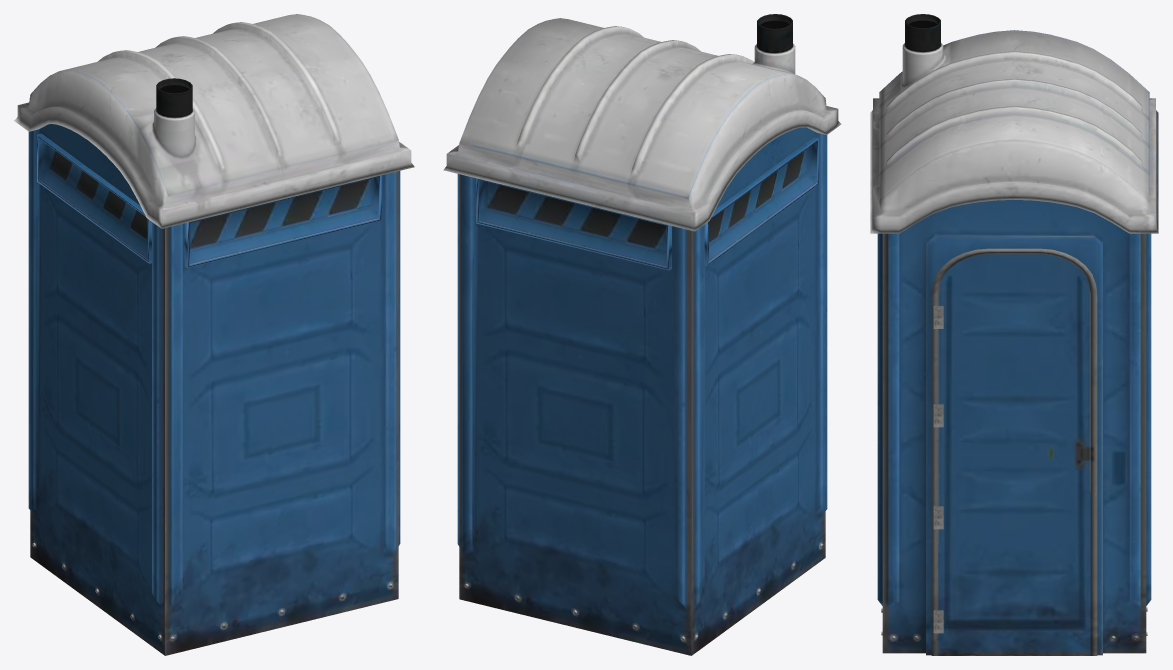
The model's file is toilet.glb.
3 renders of one model, left to right at view 1: azimuth 30°, elevation 25°; view 2: azimuth 150°, elevation 25°; view 3: azimuth 270°, elevation 25°, orthographic. The views are drawn at different scales.
Visible parts, largest first — view 1: defaultMaterial; view 2: defaultMaterial; view 3: defaultMaterial.
Boxes of the visible parts, x1,y1,x2,y2 form: defaultMaterial: (14,14,414,655); defaultMaterial: (443,14,841,655); defaultMaterial: (870,14,1158,655).
Bounding box in the file's own units: 1.11 × 2.3 × 1.12.
1 material, 1 textured.
